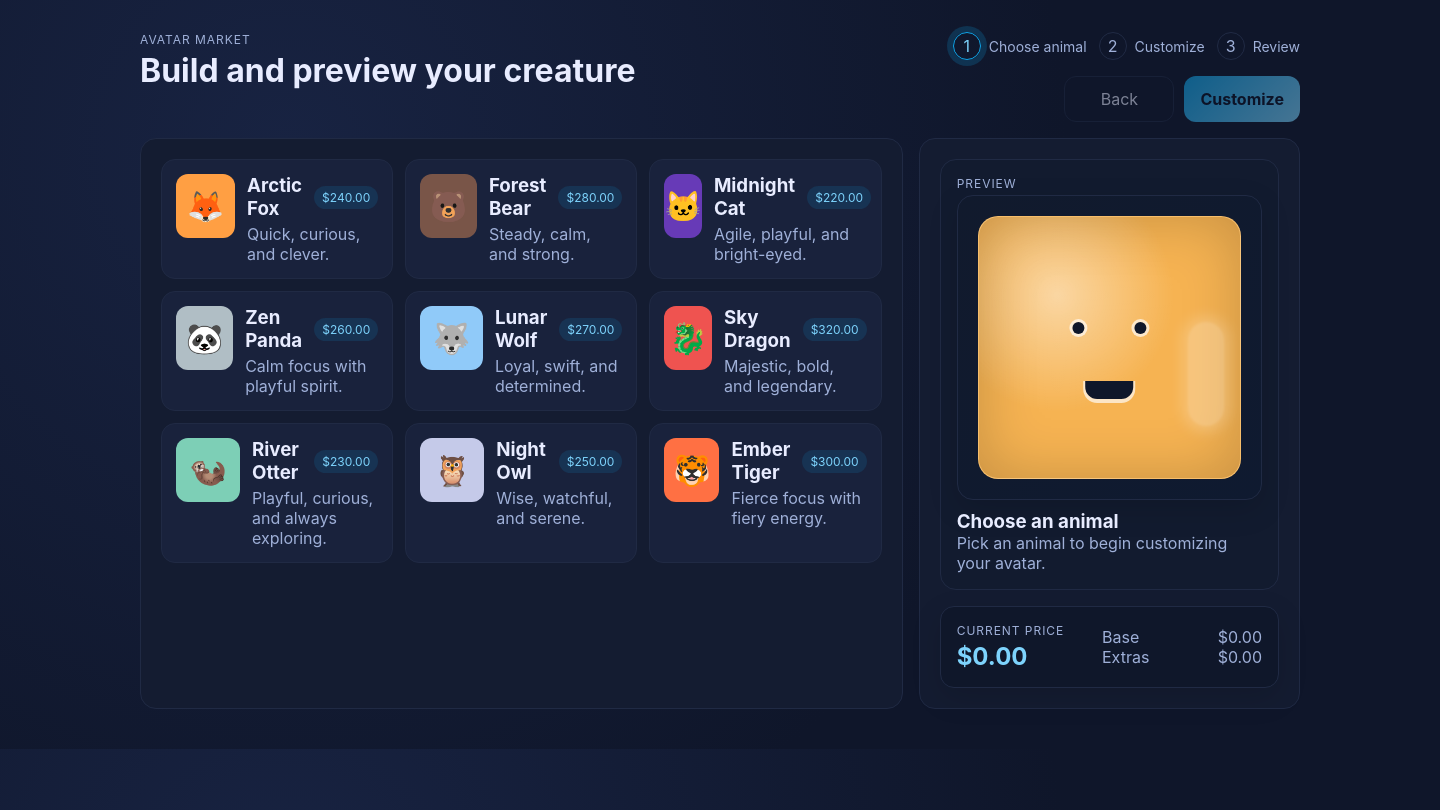
Test: shows animals and enables Customize when one is selected
Check: the button "Customize" is disabled, box [1184,76,1300,122]
Click the button "🐻 Forest Bear $280.00 Steady, calm, and strong." at {"x": 521, "y": 219}, box [405,159,637,279]
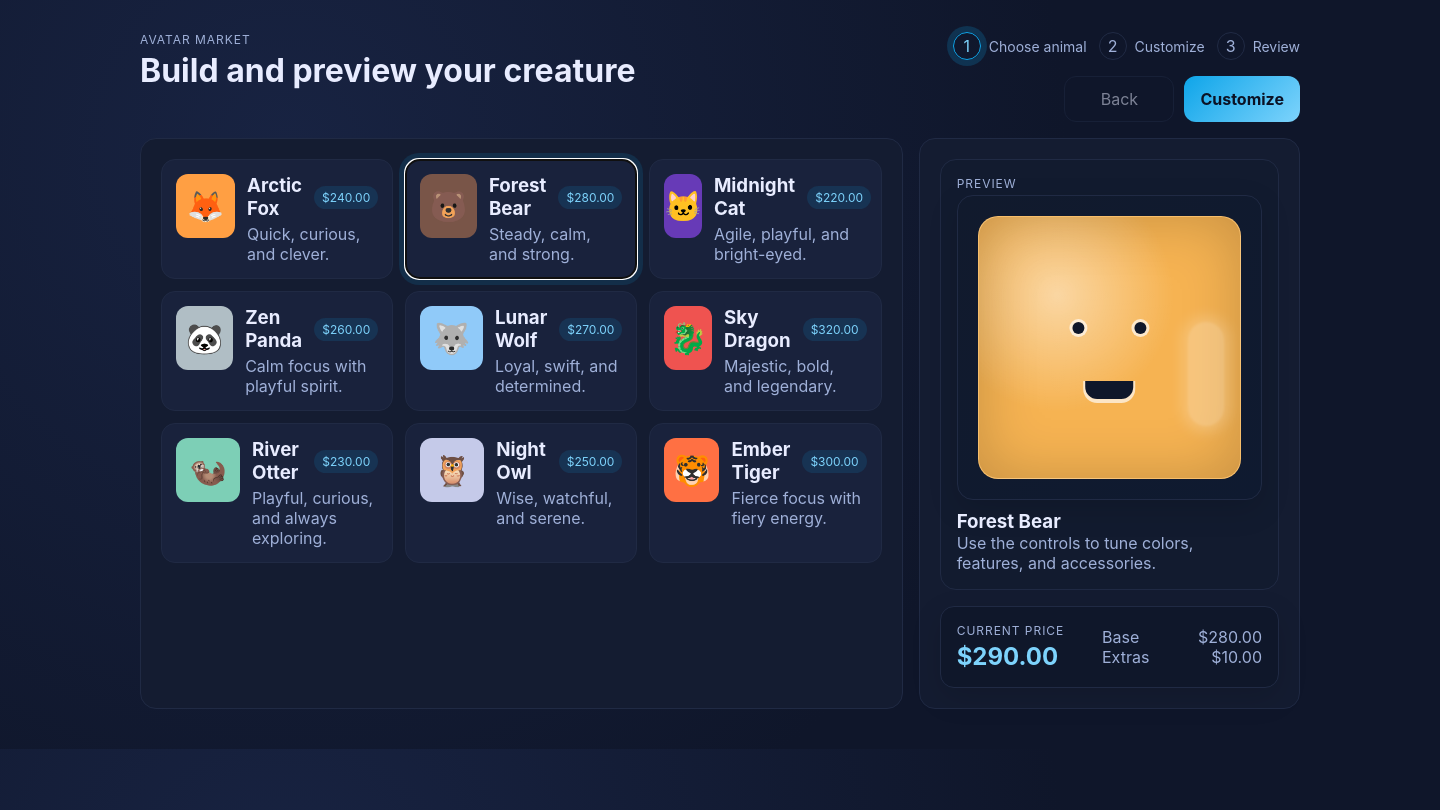
Check: the button "Customize" is enabled, box [1184,76,1300,122]
